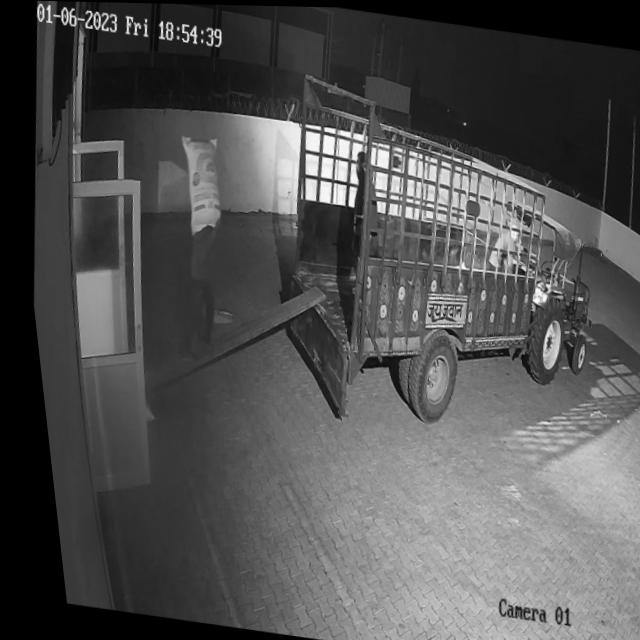sack: (164, 130, 228, 238)
